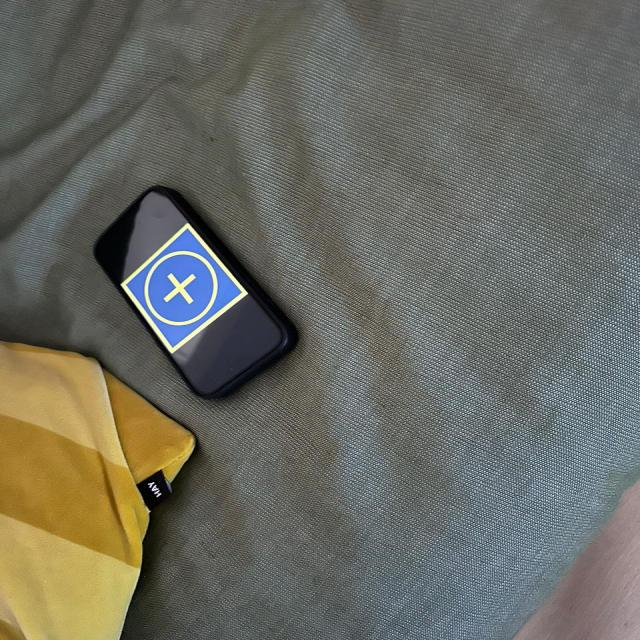Marker: (119, 221, 254, 356)
